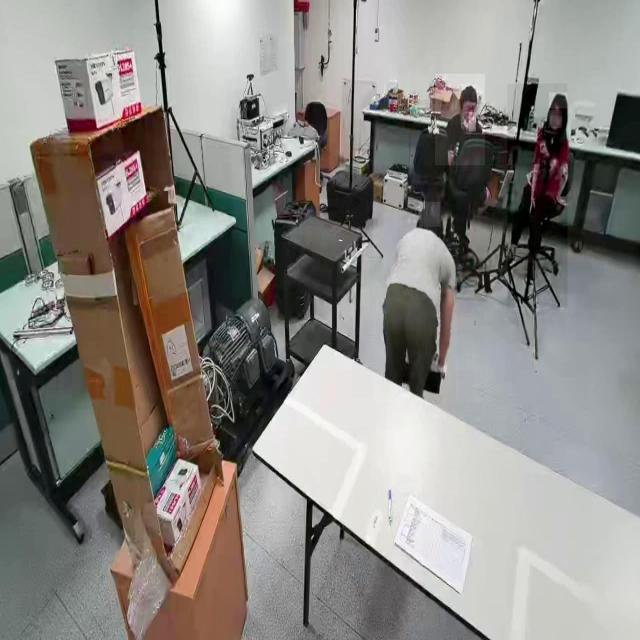face_nomask: (548, 110, 562, 129)
hand_noglove: (528, 191, 536, 216), (468, 112, 476, 132)
head_nohelmet: (419, 202, 441, 228), (549, 92, 568, 110), (460, 84, 478, 100)
person: (373, 205, 459, 402), (508, 84, 568, 308), (435, 74, 485, 166)
